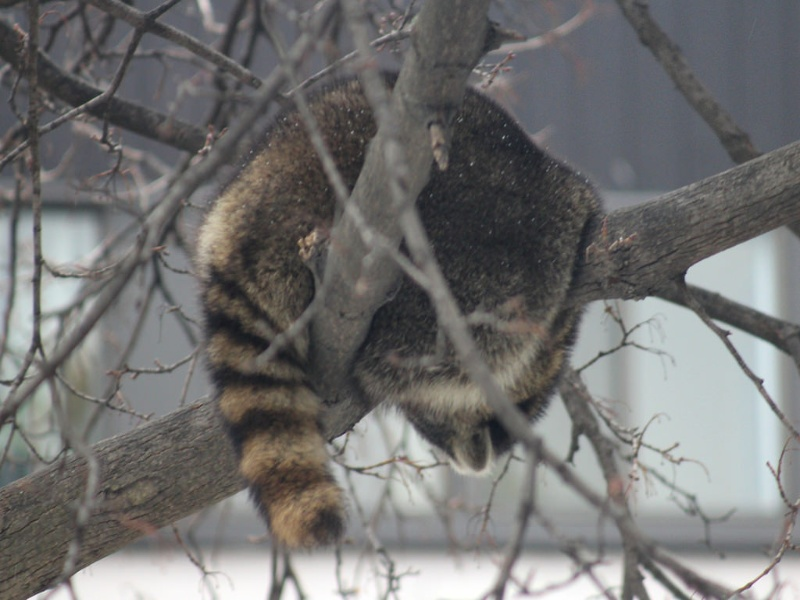raccoon: (193, 69, 607, 558)
